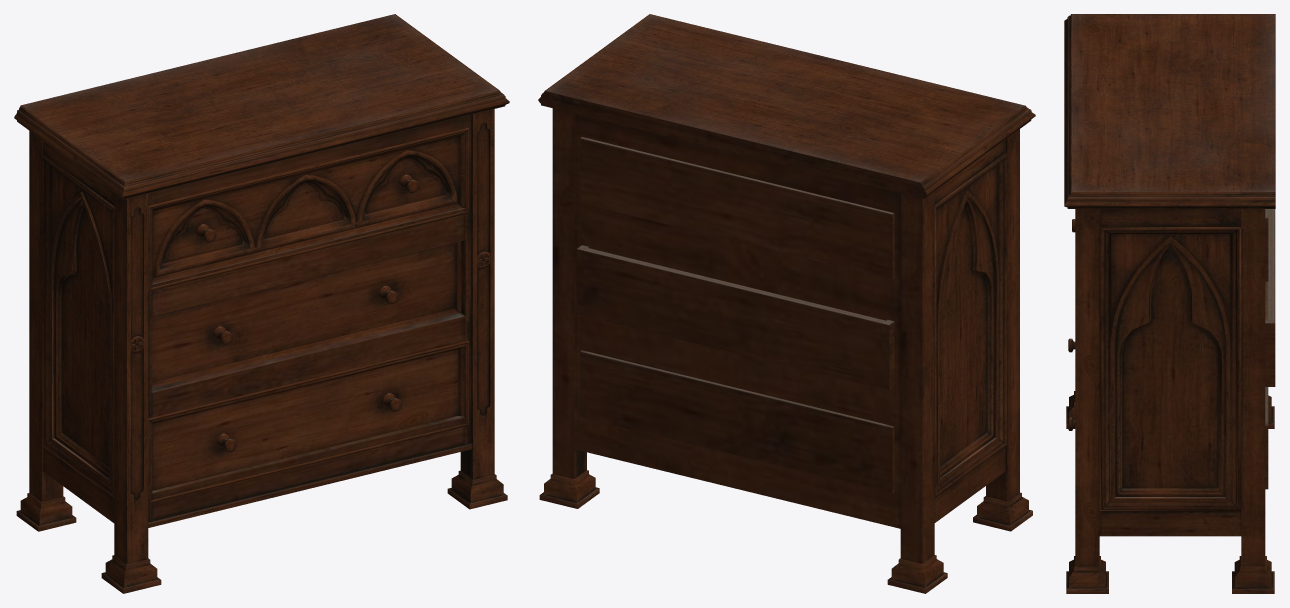
File: dresser-commode.glb
3 views of the same model, side by side, from view 1: azimuth 30°, elevation 25°; view 2: azimuth 150°, elevation 25°; view 3: azimuth 270°, elevation 25° (orthographic). The views are drawn at different scales.
Parts seen in each view (by area): view 1: GothicCommode_01; view 2: GothicCommode_01; view 3: GothicCommode_01.
Part boxes in pixels (x1,y1,x2,y2): GothicCommode_01: [14, 14, 509, 593]; GothicCommode_01: [538, 14, 1035, 593]; GothicCommode_01: [1064, 14, 1275, 593].
Size of the model in its own units: 1.2 by 1.21 by 0.581.
1 material, 1 textured.
